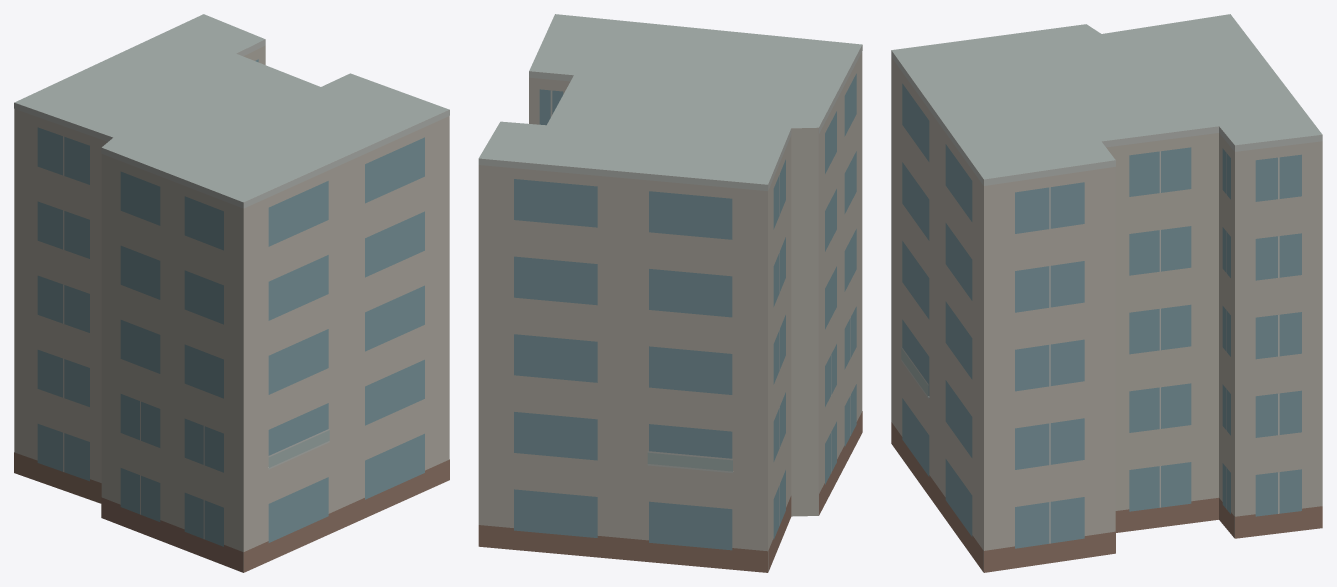
File: survey-upis-32863178.glb
The picture shows the model from 3 angles, left to right: view 1: azimuth 30°, elevation 25°; view 2: azimuth 150°, elevation 25°; view 3: azimuth 270°, elevation 25°; orthographic projection. The views are drawn at different scales.
Visible parts, largest first — view 1: survey-upis-32863178.tmp; view 2: survey-upis-32863178.tmp; view 3: survey-upis-32863178.tmp.
Boxes of the visible parts, bbox=[...] form: survey-upis-32863178.tmp: bbox=[14, 14, 449, 572]; survey-upis-32863178.tmp: bbox=[478, 14, 862, 572]; survey-upis-32863178.tmp: bbox=[891, 14, 1322, 572].
Bounding box in the file's own units: 13.23 × 14.65 × 14.57.
